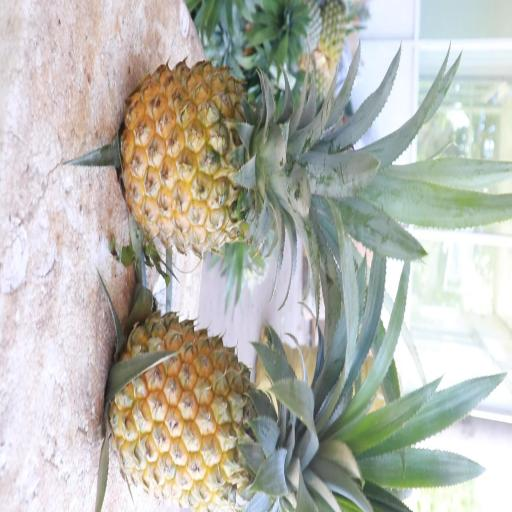Pineapple - v8 v1: (105, 308, 359, 512), (117, 54, 340, 262)
